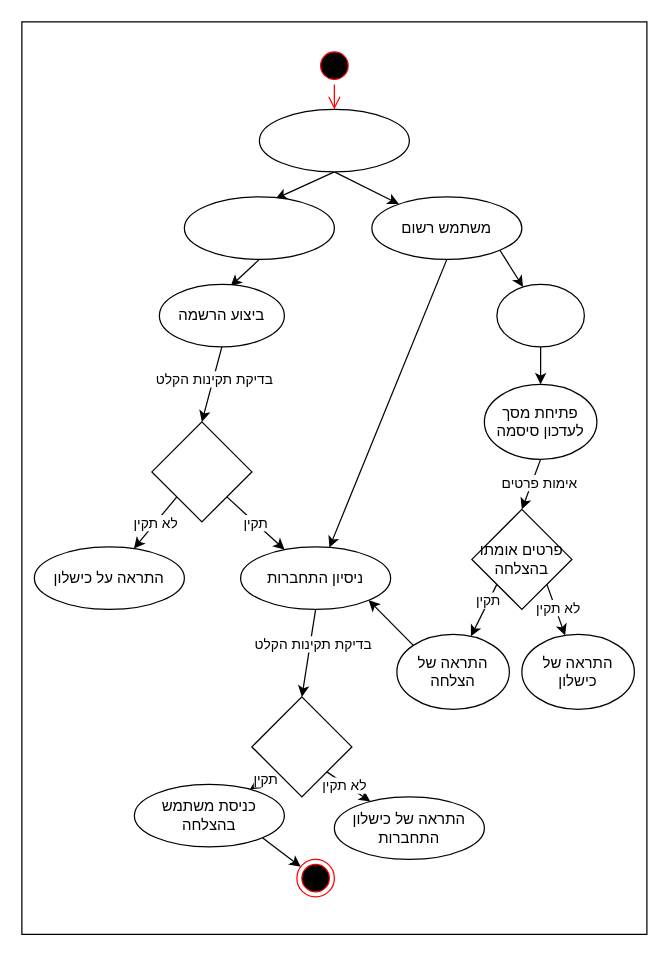
The diagram is 669 pixels wide and 956 high, and some of its shapes have lost their labels. Each missing label, with the centre of its shape:
"בדיקת פרטי ההתחברות" goes at point (301, 746).
"בדיקת פרטים אישיים" goes at point (201, 471).
"משתמש אינו רשום" goes at point (258, 227).
"משתמש מעוניין להתחבר לאתר" goes at point (333, 140).
"עדכון סיסמה" goes at point (540, 315).
